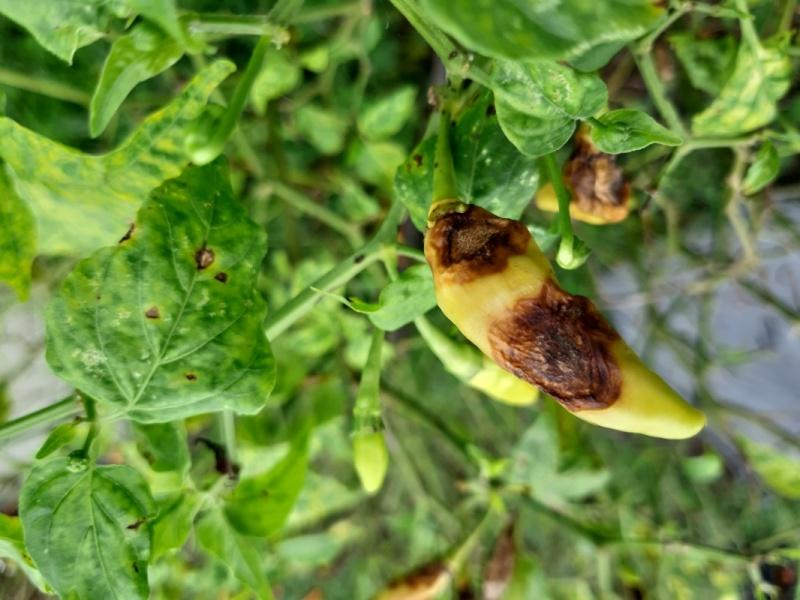antraknosa: (420, 200, 710, 440)
